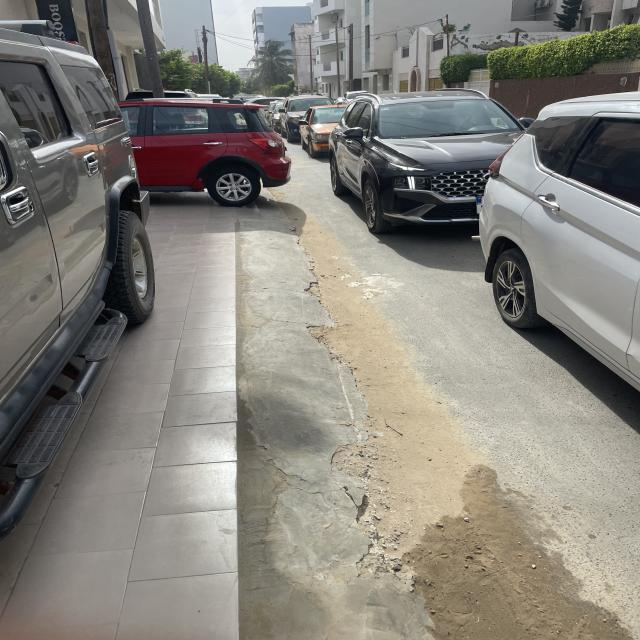particulier: (2, 20, 159, 552), (474, 92, 640, 397), (328, 90, 544, 235), (111, 96, 296, 210), (281, 96, 336, 140)
taxi: (300, 106, 358, 160)
